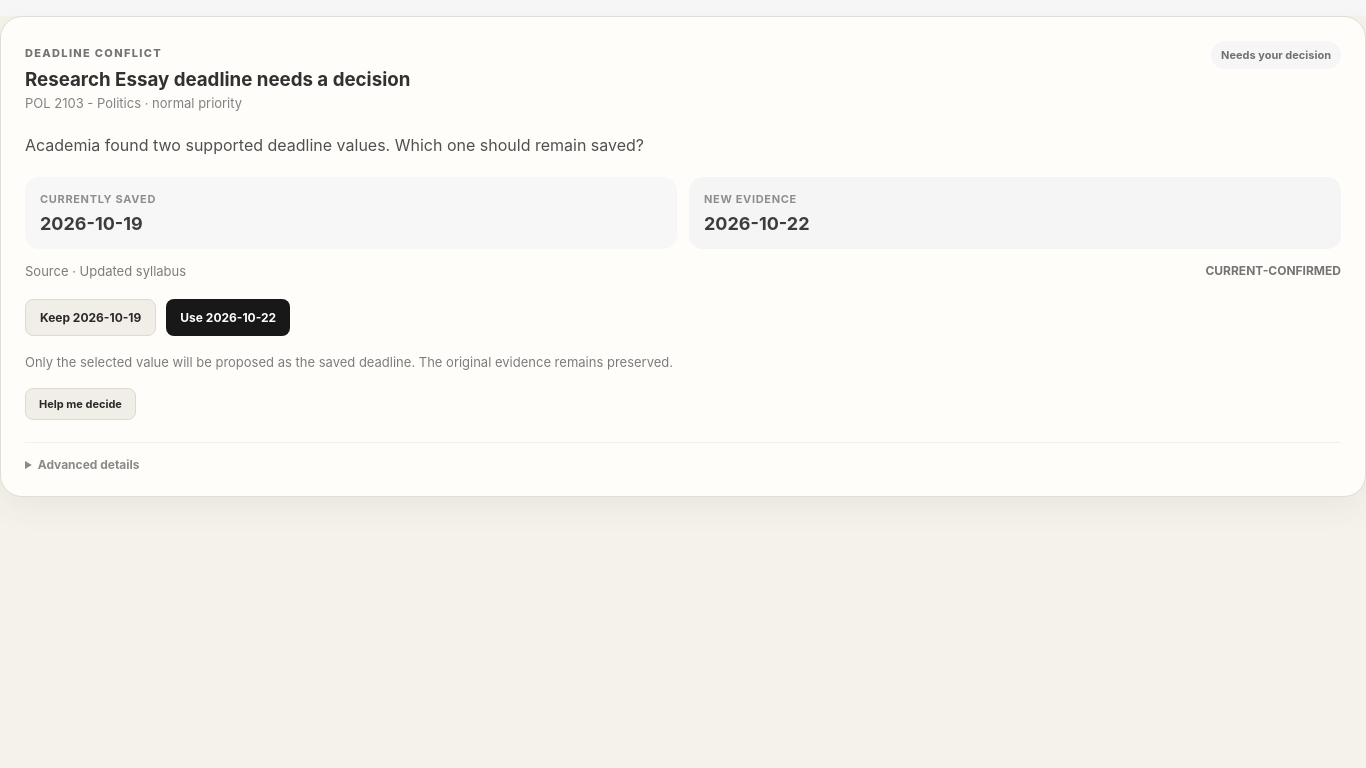
Scenario: ReviewCard decision help › renders suggested options and applies the chosen decision
Later steps or results of the test are not shown.
Click the button "Help me decide". click: (80,404)
box: [25,388,136,420]
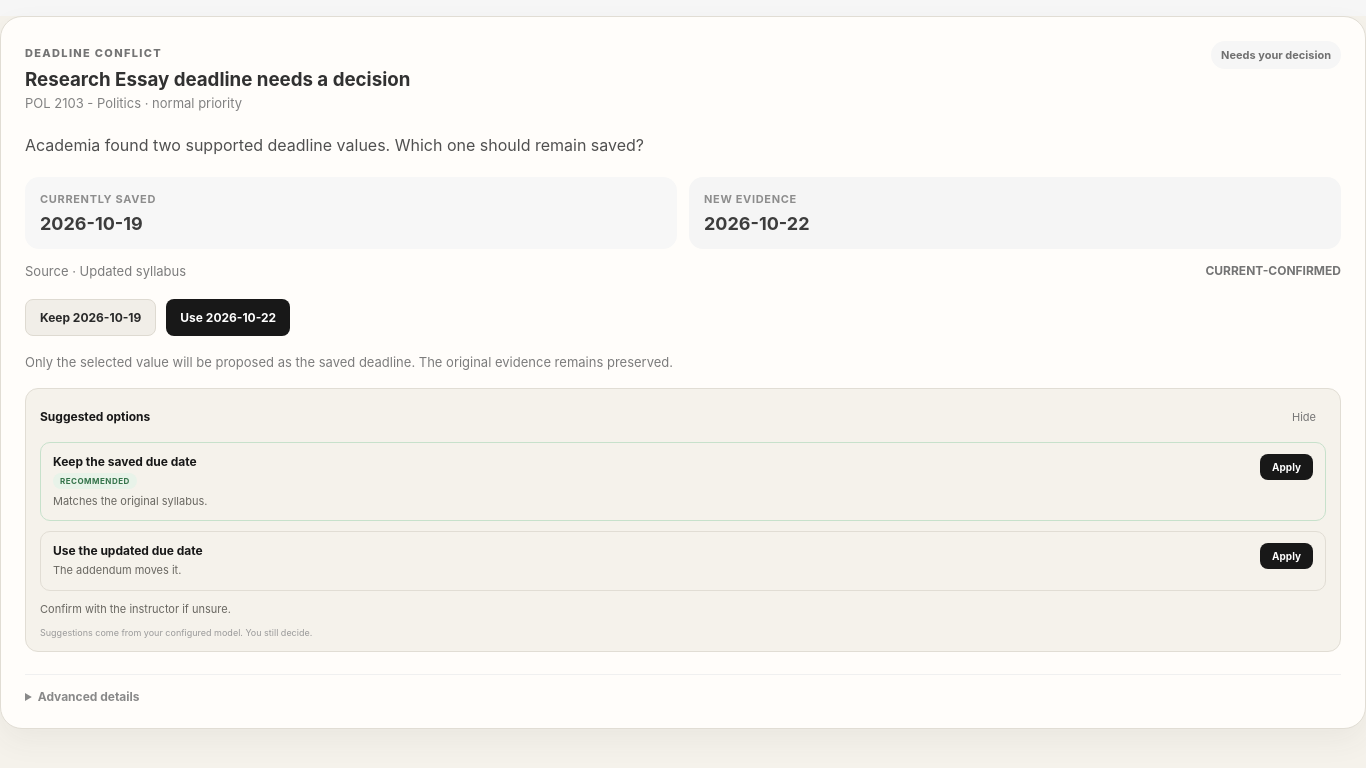
Check: the text "Keep the saved due date" is shown, box [53,454,207,469]
Check: the text "Recommended" is shown, box [53,473,137,489]
Check: the text "Confirm with the instructor if unsure." is shown, box [40,602,231,616]
